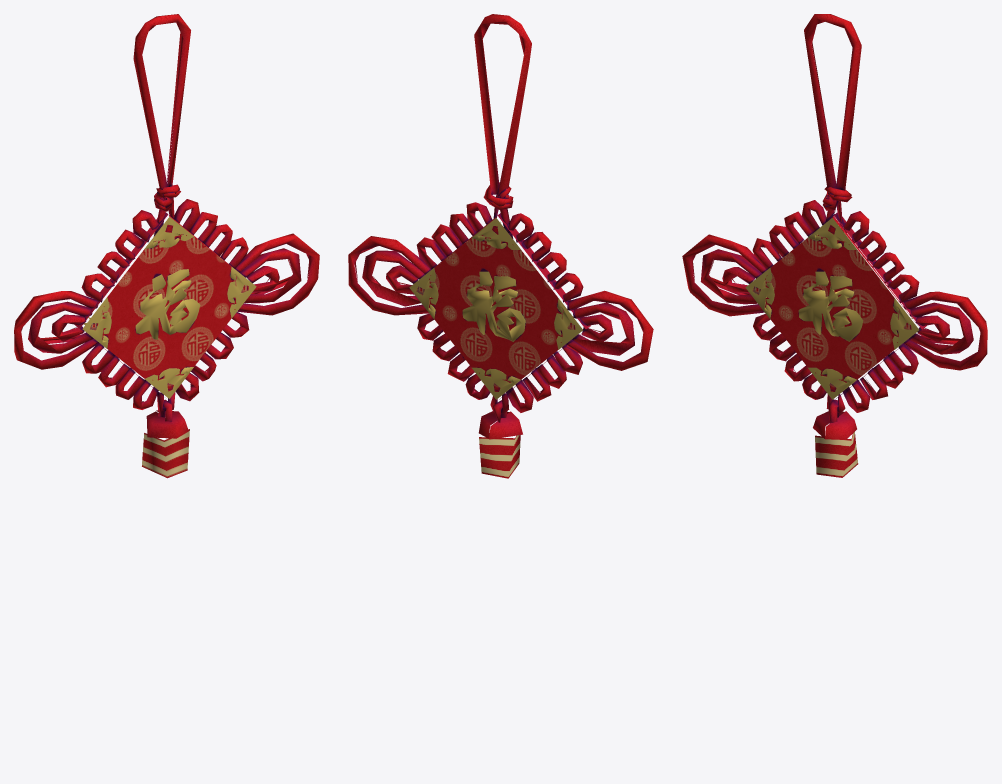
The model's file is chinese knot.glb.
3 views of the same model, side by side, from view 1: azimuth 30°, elevation 25°; view 2: azimuth 150°, elevation 25°; view 3: azimuth 330°, elevation 25° (orthographic).
Visible parts, largest first — view 1: Object_6; view 2: Object_6; view 3: Object_6.
Part boxes in pixels (x1,y1,x2,y2): Object_6: (14,14,319,478); Object_6: (348,14,653,478); Object_6: (682,14,987,477).
Size of the model in its own units: 53.71 by 126 by 6.75.
1 material, 1 textured.
